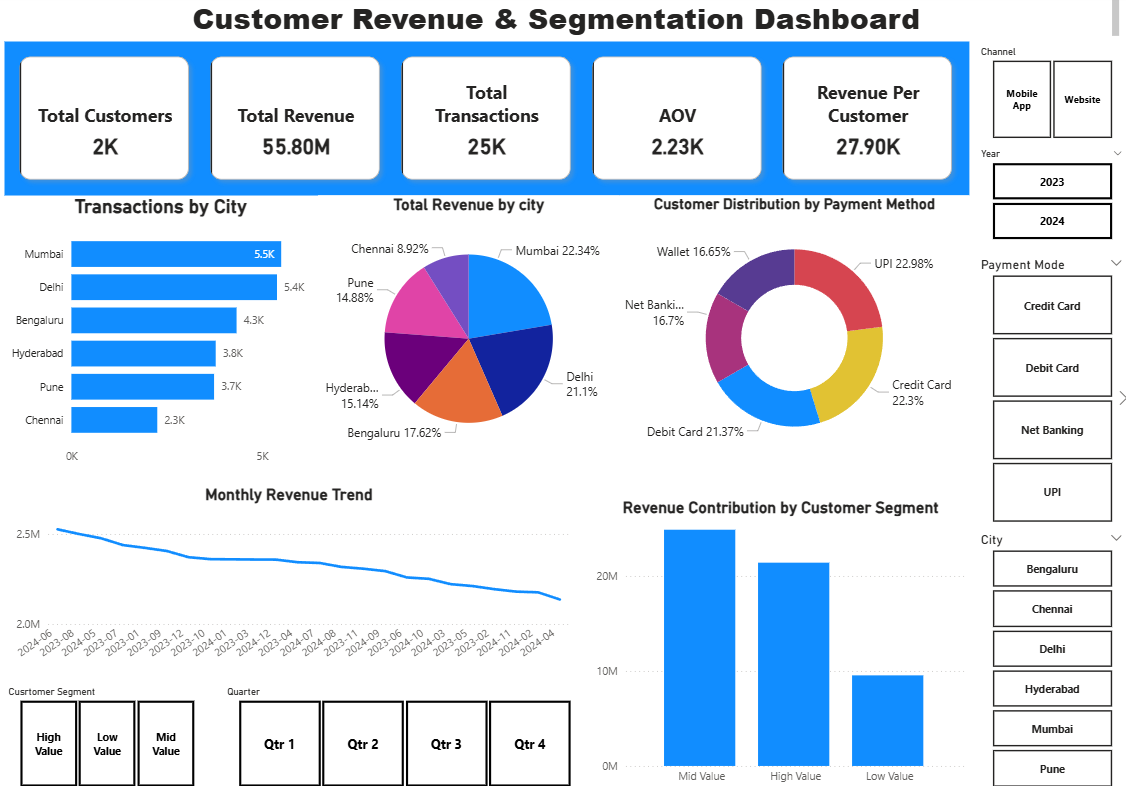

This screenshot's page, from the dashboard's own definition file:
{"tool":"powerbi","page":{"name":"Page 1","canvas":[1280,900],"ordinal":0},"visuals":[{"type":"barChart","title":"Transactions by City","fields":{"Category":["public final_customer_analytics.city"],"Y":["CountNonNull(public final_customer_analytics.payment_mode)"]},"box":[7,226.8,355,312.8],"z":0},{"type":"textbox","box":[0,0,1269.4,53.5],"z":1000},{"type":"cardVisual","fields":{"Data":["final_customer_analytics.Total Customers","final_customer_analytics.Total Revenue","final_customer_analytics.Total Transactions","final_customer_analytics.AOV","final_customer_analytics.Revenue Per Customer"]},"box":[8.5,53.5,1087.7,173.3],"z":2000},{"type":"pieChart","fields":{"Category":["final_customer_analytics.city"],"Y":["final_customer_analytics.Total Revenue"]},"box":[362.1,226.8,339.5,302.9],"z":3000},{"type":"slicer","fields":{"Values":["final_customer_analytics.city"]},"box":[1096.1,601.6,184.6,298.7],"z":4000},{"type":"slicer","fields":{"Values":["final_customer_analytics.payment_mode"]},"box":[1096.1,291.6,184.6,310],"z":5000},{"type":"slicer","fields":{"Values":["final_customer_analytics.channel"]},"box":[1096.1,53.5,184.6,115.5],"z":6000},{"type":"slicer","fields":{"Values":["final_customer_analytics.customer_segment"]},"box":[0,774.9,246.6,125.4],"z":7000},{"type":"donutChart","title":"Customer Distribution by Payment Method","fields":{"Y":["final_customer_analytics.Total Customers"],"Category":["final_customer_analytics.payment_mode"]},"box":[701.6,226.8,394.5,302.9],"z":8000},{"type":"lineChart","title":"Monthly Revenue Trend","fields":{"Category":["final_customer_analytics.year_month"],"Y":["final_customer_analytics.Total Revenue"]},"box":[8.5,553.7,641,215.6],"z":9000},{"type":"clusteredColumnChart","title":"Revenue Contribution by Customer Segment","fields":{"Category":["final_customer_analytics.value_segment"],"Y":["final_customer_analytics.Total Revenue"]},"box":[670.6,567.8,425.5,332.5],"z":10000},{"type":"slicer","fields":{"Values":["final_customer_analytics.transaction_date.Variation.Date Hierarchy.Year"]},"box":[1096.1,169.1,184.6,114.1],"z":11000},{"type":"slicer","fields":{"Values":["final_customer_analytics.transaction_date.Variation.Date Hierarchy.Quarter"]},"box":[246.6,774.9,424.1,125.4],"z":12000}]}

Visuals, with their boxes in screenshot pixels (x1, y1, x2, y2), scaled from the page's 1280x900 canvas onto the 1126x786 screenshot:
"Transactions by City" barChart: crop(6, 198, 318, 471)
textbox: crop(0, 0, 1117, 47)
cardVisual - final_customer_analytics.Total Customers x final_customer_analytics.Total Revenue: crop(7, 47, 964, 198)
pieChart - final_customer_analytics.city x final_customer_analytics.Total Revenue: crop(319, 198, 617, 463)
slicer - final_customer_analytics.city: crop(964, 525, 1125, 785)
slicer - final_customer_analytics.payment_mode: crop(964, 255, 1125, 525)
slicer - final_customer_analytics.channel: crop(964, 47, 1125, 148)
slicer - final_customer_analytics.customer_segment: crop(0, 677, 217, 785)
"Customer Distribution by Payment Method" donutChart: crop(617, 198, 964, 463)
"Monthly Revenue Trend" lineChart: crop(7, 484, 571, 672)
"Revenue Contribution by Customer Segment" clusteredColumnChart: crop(590, 496, 964, 785)
slicer - final_customer_analytics.transaction_date.Variation.Date Hierarchy.Year: crop(964, 148, 1125, 247)
slicer - final_customer_analytics.transaction_date.Variation.Date Hierarchy.Quarter: crop(217, 677, 590, 785)
